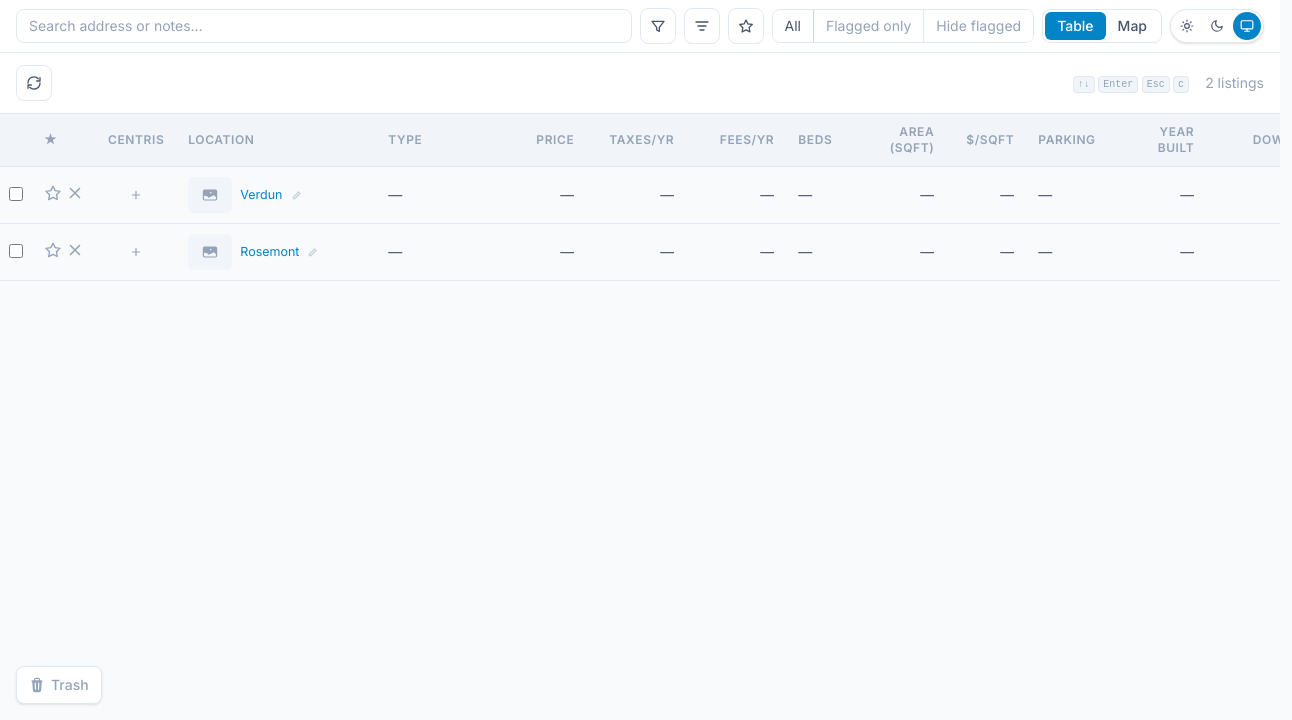
Test case: / search bar › clears the query when Escape is pressed
Type "verd" into the field with placeholder "Search address or notes…" at (324, 26), box [16,9,632,43]
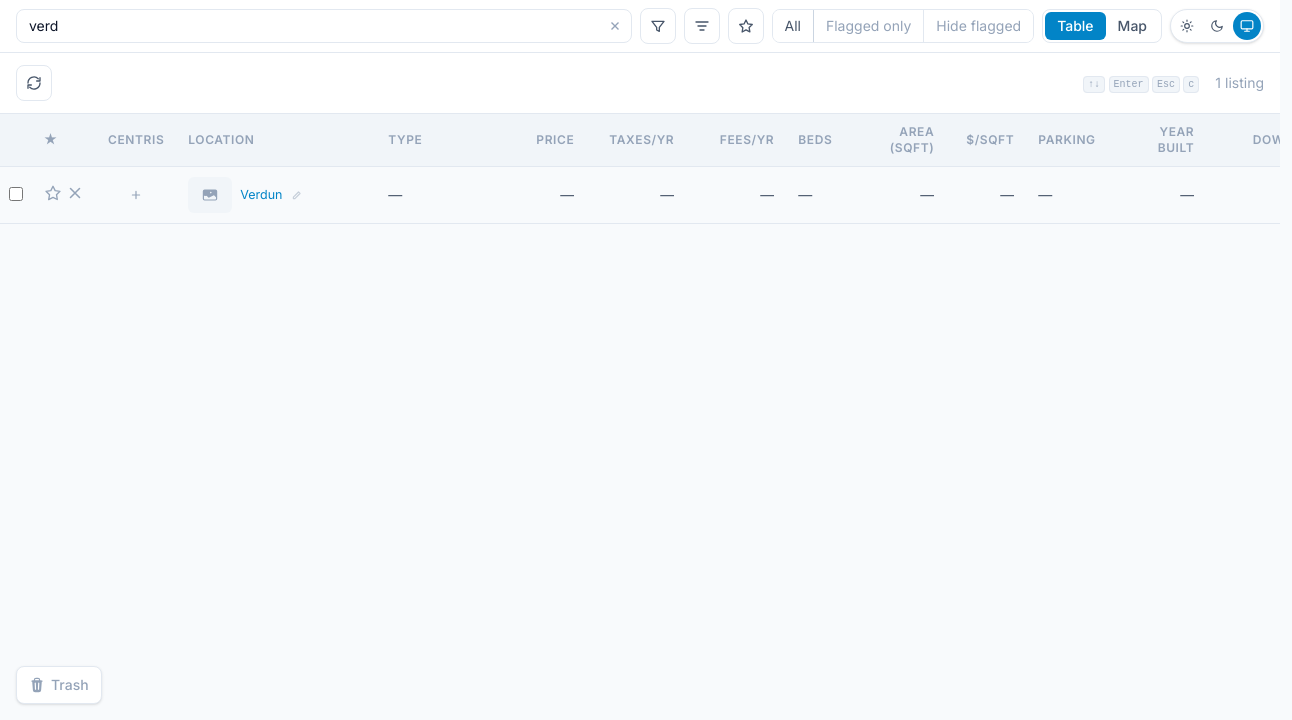
Check: the link "Rosemont" is gone
Press Escape in the field with placeholder "Search address or notes…", box [16,9,632,43]
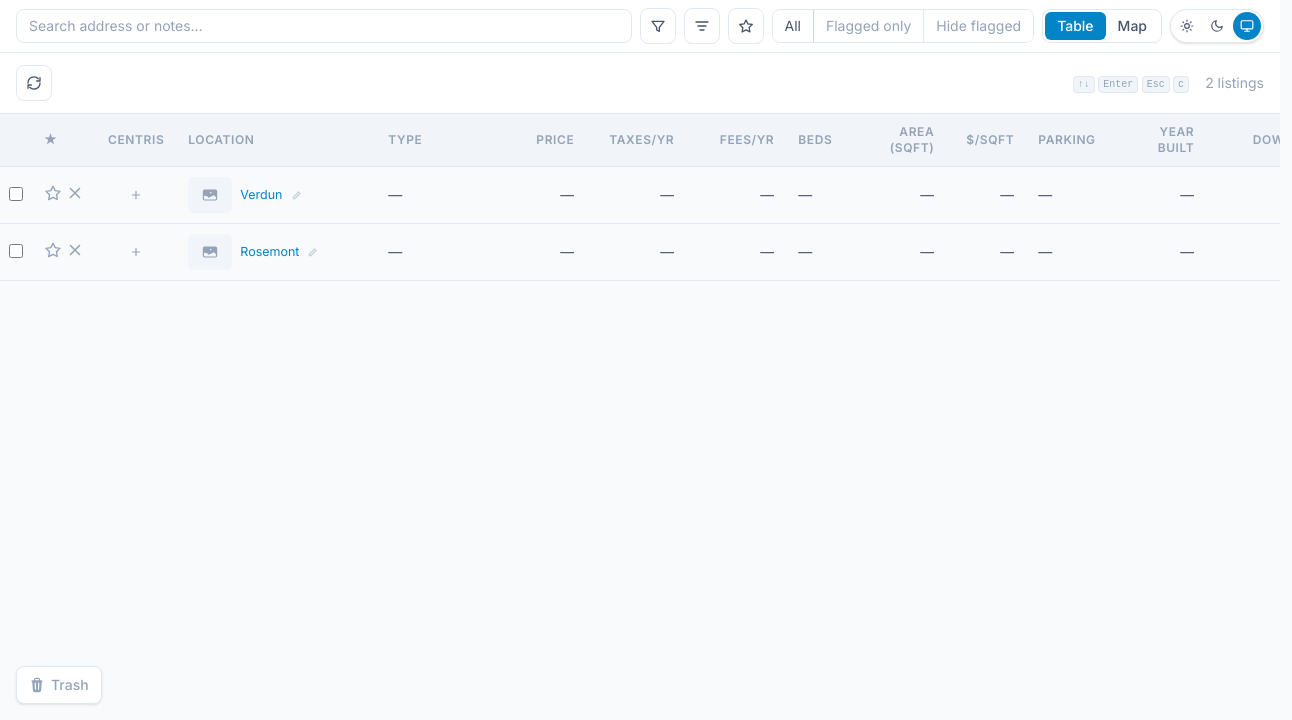
Check: the link "Rosemont" is shown, box [240,244,300,260]
Check: the field with placeholder "Search address or notes…" is empty, box [16,9,632,43]
